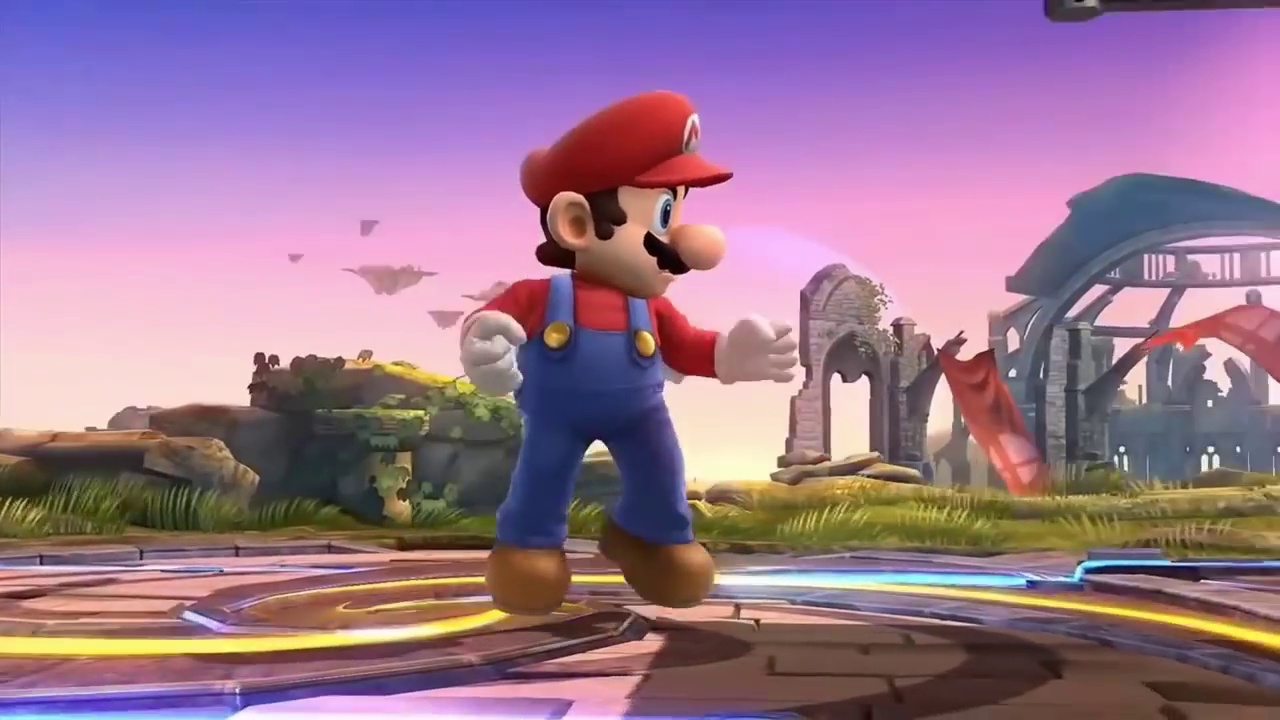Mario: (458, 91, 798, 617)
